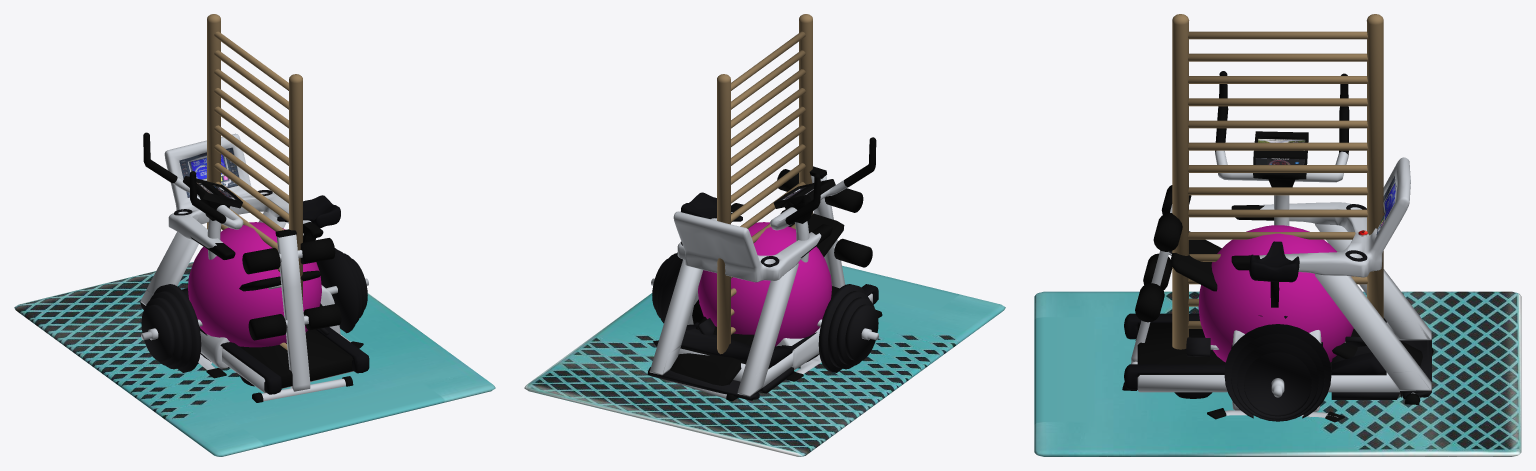
The model's file is academia_aparelhos.glb.
3 renders of one model, left to right at view 1: azimuth 30°, elevation 25°; view 2: azimuth 150°, elevation 25°; view 3: azimuth 270°, elevation 25°, orthographic. The views are drawn at different scales.
Parts seen in each view (by area): view 1: tapete, esteira, espaldar, bola_pilates, abdominal, barra, bike; view 2: tapete, esteira, espaldar, bola_pilates, abdominal, barra, bike; view 3: tapete, espaldar, esteira, bola_pilates, barra, bike, abdominal.
Part boxes in pixels (x1,y1,x2,y2): tapete: (14,262,495,456); esteira: (140,133,369,394); espaldar: (207,14,302,350); bola_pilates: (188,222,321,347); abdominal: (239,229,353,402); barra: (141,248,368,372); bike: (143,132,363,378); tapete: (524,265,1005,456); esteira: (649,203,878,400); espaldar: (717,14,812,354); bola_pilates: (698,222,831,346); abdominal: (647,166,882,401); barra: (651,252,878,372); bike: (653,137,876,381); tapete: (1034,291,1521,456); espaldar: (1172,14,1383,349); esteira: (1124,157,1431,399); bola_pilates: (1198,225,1353,362); barra: (1224,324,1331,421); bike: (1186,71,1366,422); abdominal: (1122,185,1433,404).
Bounding box in the file's own units: 2.51 × 2.6 × 3.17.
Materials: 15 (4 with a texture image).
